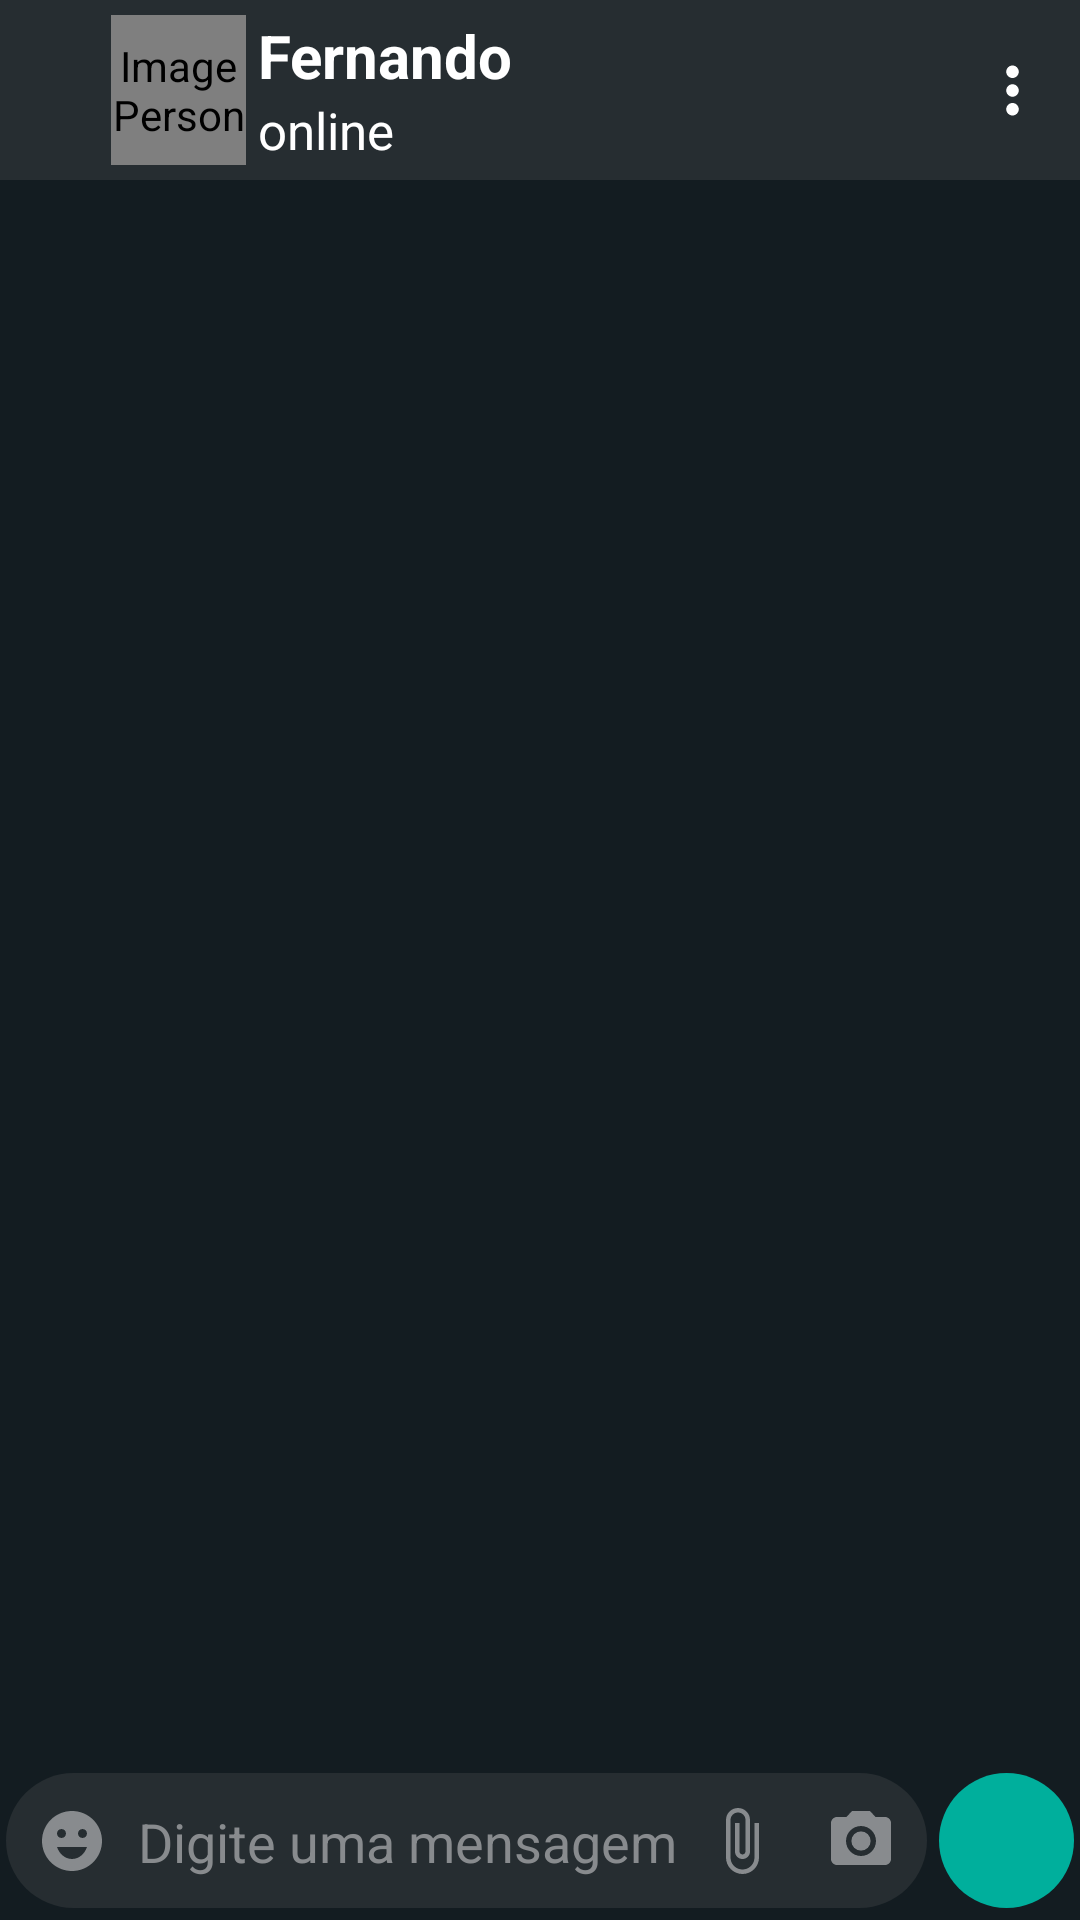

Icons on this 1080px x 1920px Android screen, each with the point to tap as (x=x, y=y):
attach file: (x=742, y=1841)
camera: (x=861, y=1838)
emoji emotions: (x=72, y=1841)
more vert: (x=1012, y=90)
